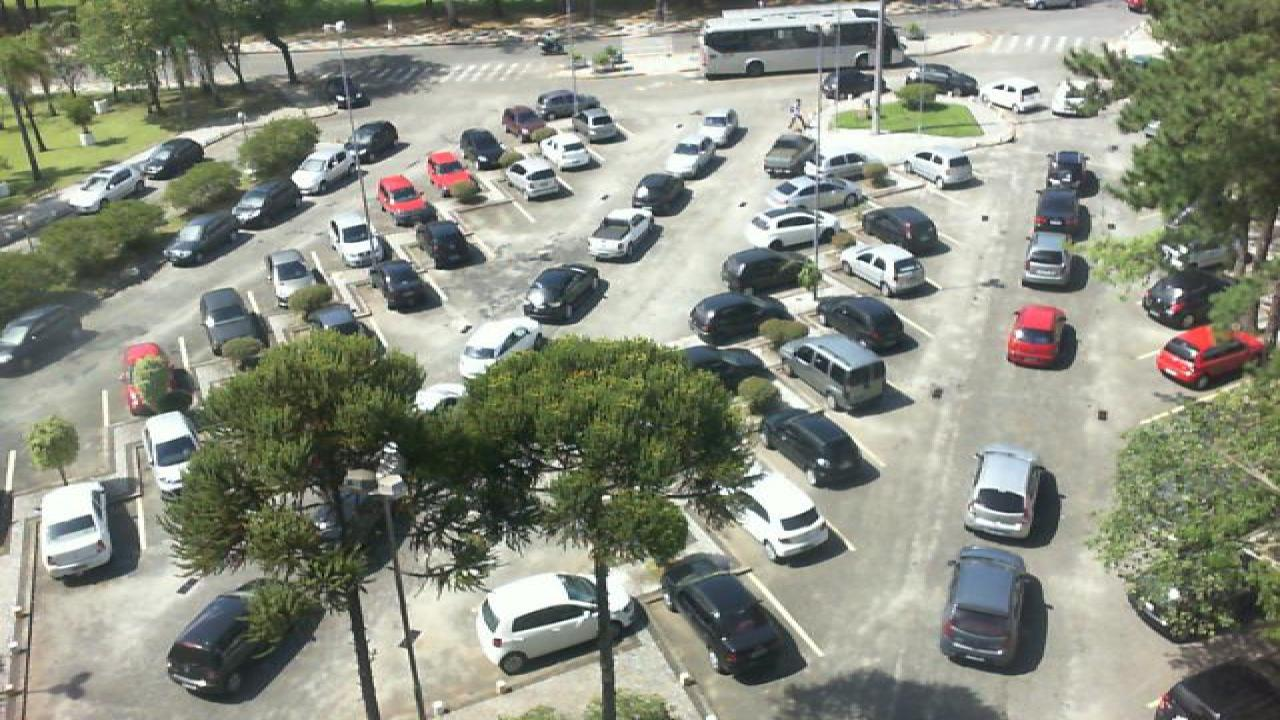Car: (654, 554, 800, 680), (474, 570, 644, 675), (166, 588, 284, 702), (934, 544, 1036, 670), (726, 469, 836, 564), (32, 482, 136, 578), (780, 336, 892, 412), (758, 412, 866, 486), (964, 447, 1048, 541), (1154, 324, 1268, 389), (138, 410, 204, 500), (690, 290, 786, 348), (520, 262, 608, 325), (118, 341, 192, 415), (818, 294, 908, 354), (458, 320, 548, 378), (738, 207, 846, 252), (1140, 273, 1222, 332), (194, 287, 264, 355), (842, 242, 930, 296), (1004, 302, 1074, 368), (720, 246, 818, 292), (860, 204, 944, 256), (64, 163, 146, 214), (162, 215, 240, 267), (588, 208, 658, 263), (288, 143, 360, 196), (230, 181, 304, 231), (374, 262, 444, 314), (414, 218, 482, 270), (766, 176, 864, 212), (1020, 236, 1086, 288), (902, 146, 976, 189), (1032, 187, 1092, 240), (132, 137, 204, 180), (264, 249, 318, 306), (330, 215, 386, 267), (502, 156, 568, 200), (378, 174, 430, 229), (666, 128, 720, 180), (632, 171, 688, 219), (760, 132, 818, 178), (906, 62, 978, 97), (980, 79, 1046, 116), (818, 151, 890, 183), (346, 119, 398, 162), (820, 63, 882, 99), (422, 150, 470, 195), (544, 134, 602, 170), (498, 106, 552, 143), (534, 89, 598, 120), (1048, 150, 1094, 192), (460, 127, 506, 168), (1050, 80, 1096, 117), (576, 109, 626, 143), (696, 108, 744, 143)
